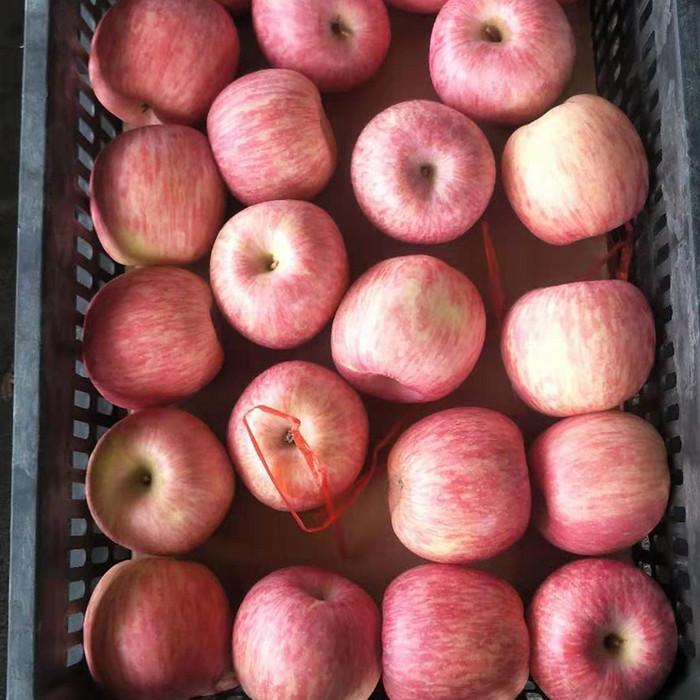apple: (380, 402, 532, 568), (326, 254, 487, 404), (225, 358, 373, 518), (501, 276, 658, 422), (503, 94, 654, 245), (86, 406, 235, 559), (348, 95, 497, 244), (80, 263, 223, 411), (527, 557, 677, 698), (82, 559, 235, 697), (211, 198, 348, 350), (529, 413, 674, 555), (378, 563, 527, 700), (424, 1, 580, 130), (87, 123, 224, 268), (227, 564, 372, 699), (86, 3, 239, 128), (206, 67, 337, 202), (250, 1, 391, 92)
